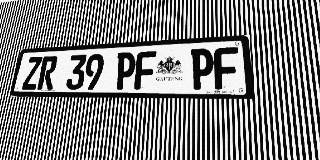3: (65, 54, 87, 90)
9: (83, 53, 105, 90)
F: (214, 47, 239, 89), (134, 51, 156, 90)
P: (190, 48, 214, 89), (114, 52, 136, 90)
R: (37, 56, 58, 90)
Z: (22, 57, 43, 90)
